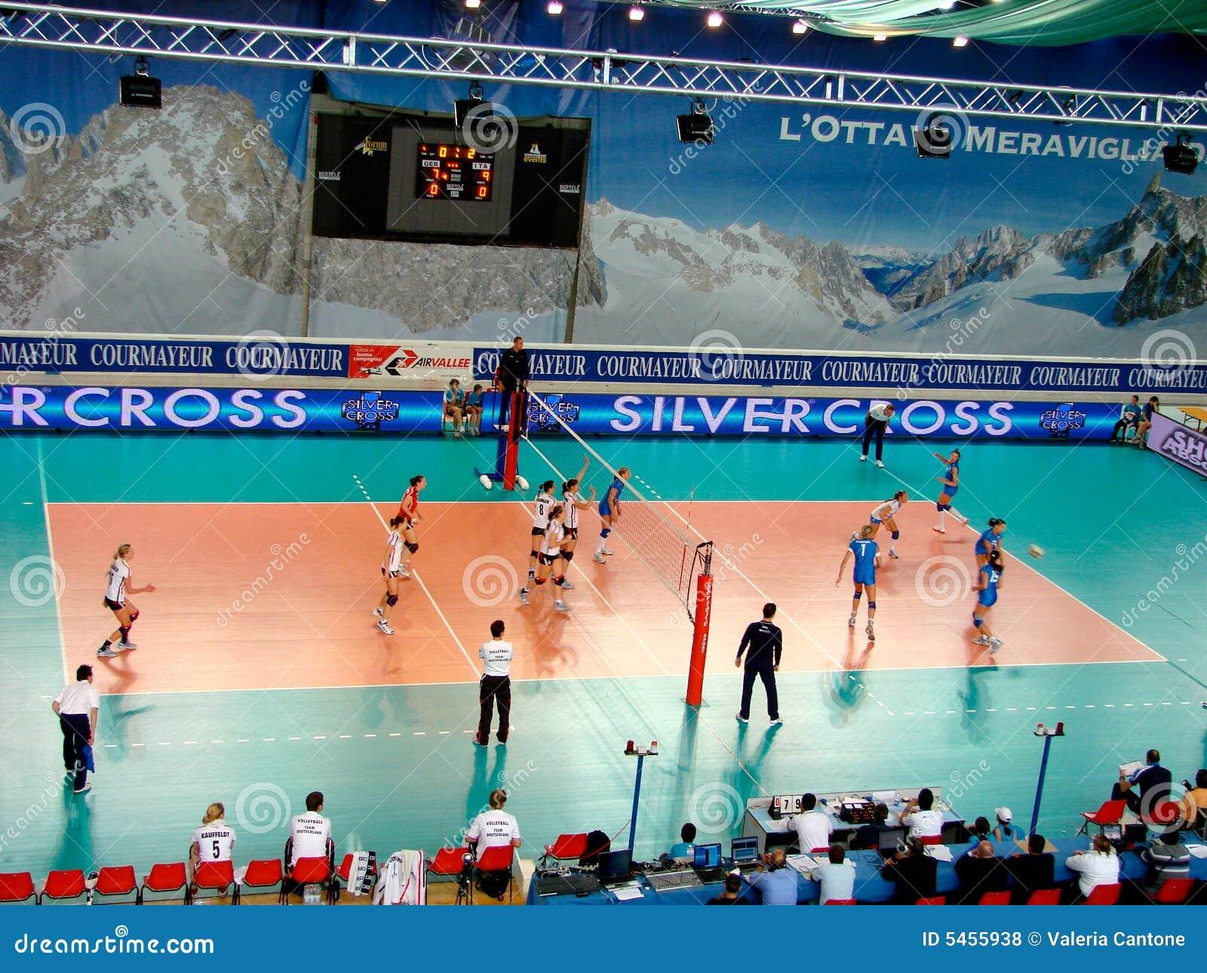ballon_volley: (1027, 544, 1045, 560)
